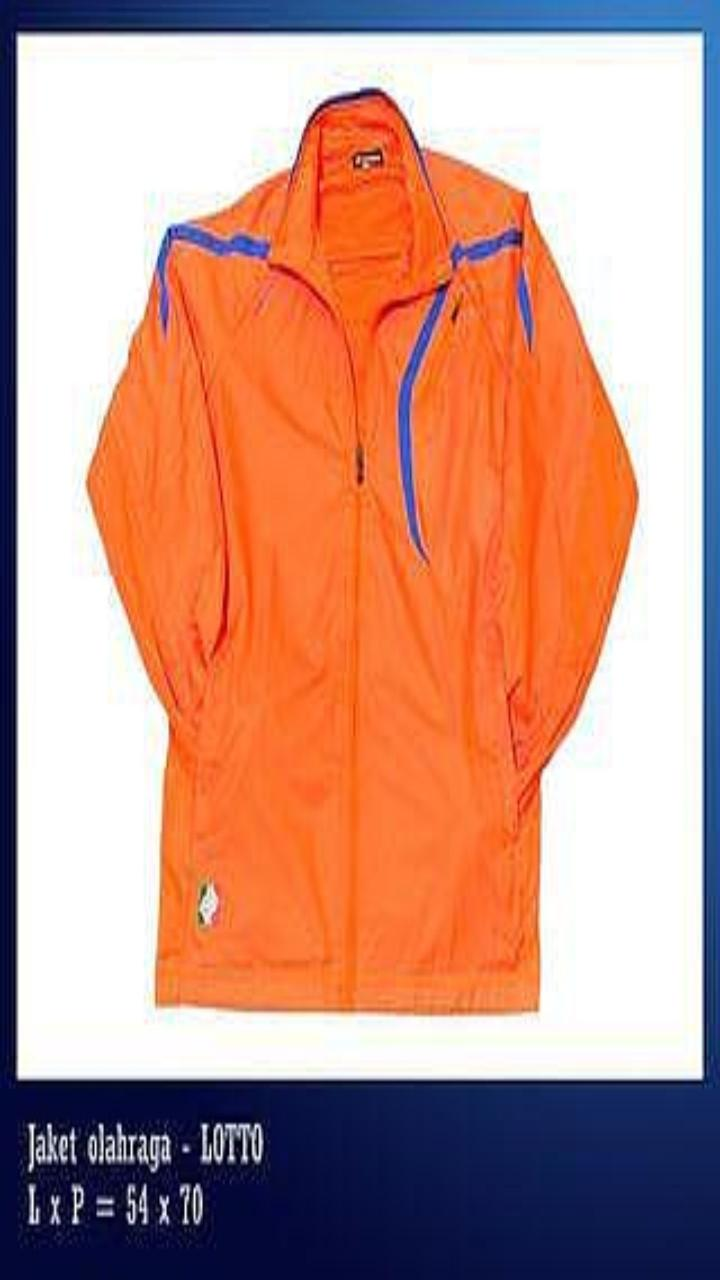Sports_Jacket: (88, 89, 636, 1010)
